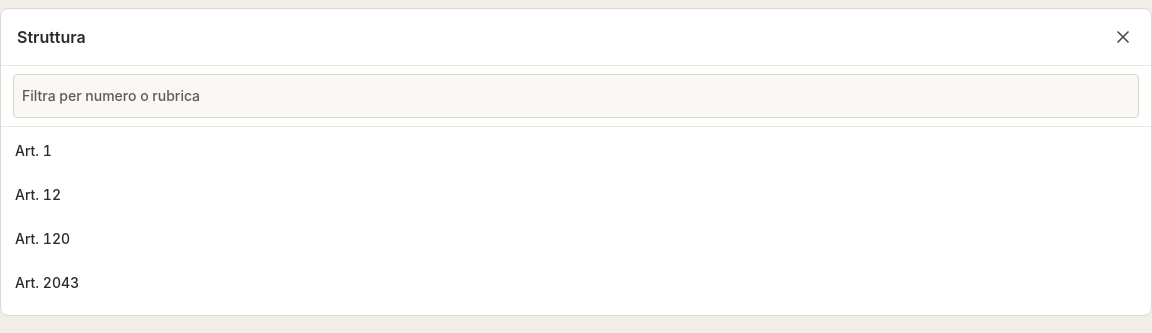
TreeViewPanel — filter › matches by article-number prefix
Type "12" into the search field named "Filtra gli articoli per numero o rubrica" at (576, 96), box [13, 74, 1139, 118]
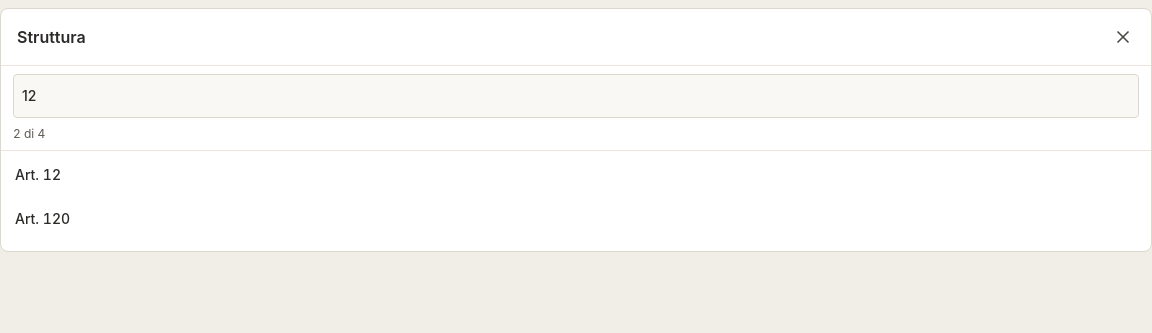
Check: the button "Art. 12" is shown, box [7, 157, 1145, 201]
Check: the button "Art. 2043" is gone
